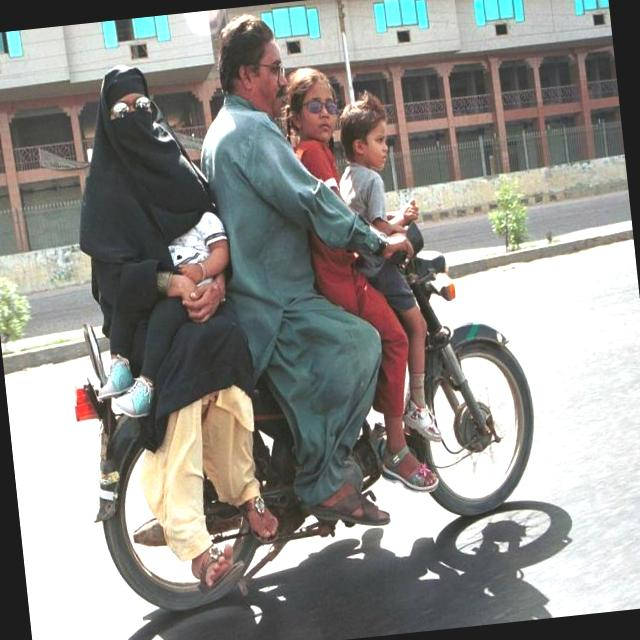motorcycle: (50, 190, 555, 640)
person: (36, 38, 250, 566), (183, 9, 340, 520), (280, 56, 402, 446), (337, 81, 440, 431)
rider_region: (38, 0, 564, 629)
